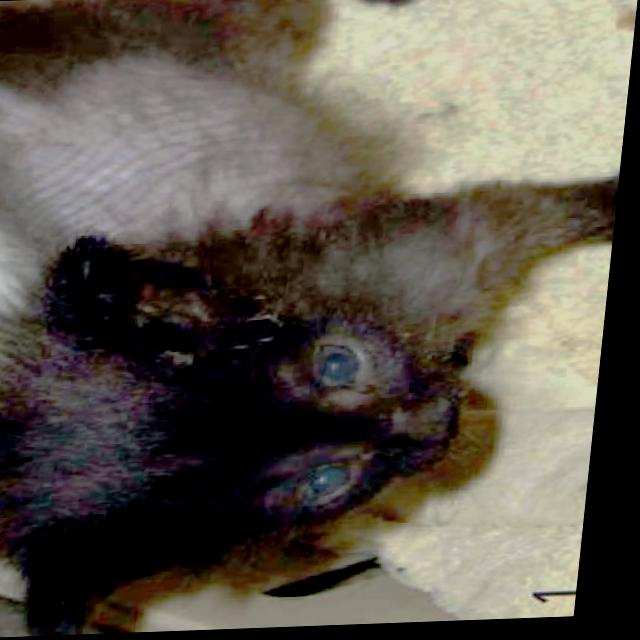hairloss: (0, 74, 319, 230)
